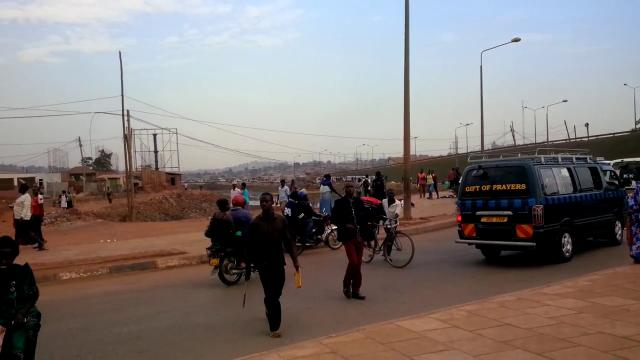van: (456, 149, 627, 263), (205, 232, 270, 286), (286, 199, 340, 254)
